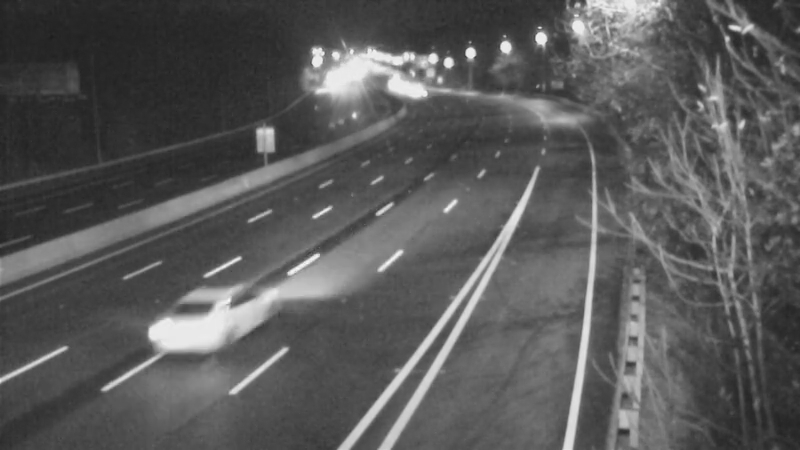vehicle: (138, 277, 248, 387), (365, 59, 415, 109), (392, 67, 442, 117)
